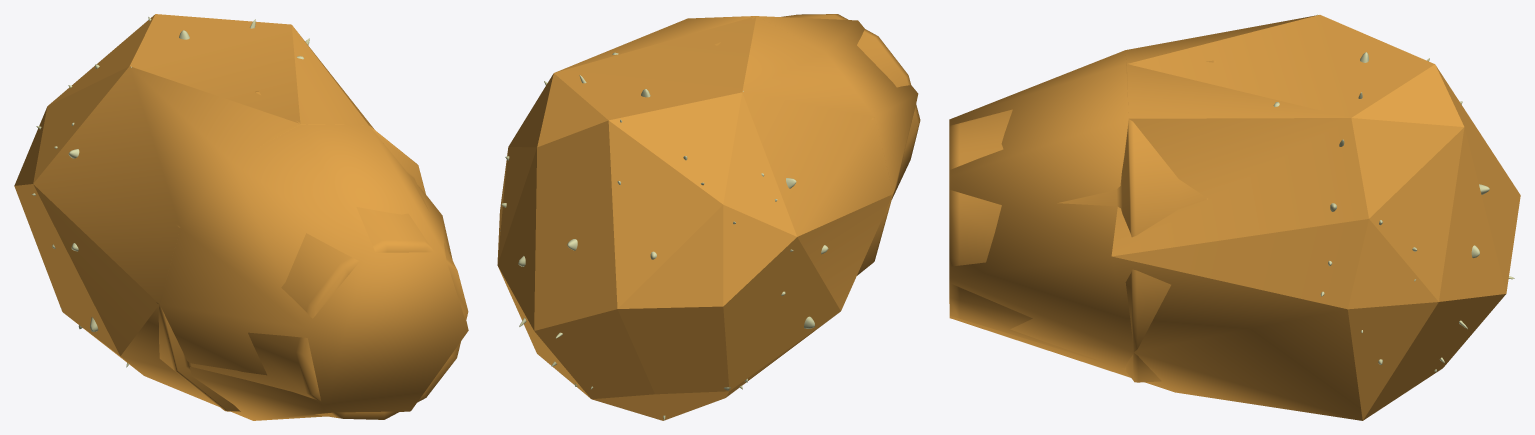
File: cactus_pot.fbx
3 renders of one model, left to right at view 1: azimuth 30°, elevation 25°; view 2: azimuth 150°, elevation 25°; view 3: azimuth 270°, elevation 25°, orthographic. The views are drawn at different scales.
Visible parts, largest first — view 1: c_cactus_pot, cactus_pot; view 2: c_cactus_pot, cactus_pot; view 3: c_cactus_pot, cactus_pot.
Part boxes in pixels (bbox=[...]): c_cactus_pot: bbox=[14, 14, 468, 420]; cactus_pot: bbox=[32, 17, 468, 419]; c_cactus_pot: bbox=[497, 16, 918, 420]; cactus_pot: bbox=[500, 14, 920, 420]; c_cactus_pot: bbox=[949, 15, 1520, 420]; cactus_pot: bbox=[949, 14, 1514, 382].
Size of the model in its own units: 16.6 by 16.42 by 25.41.
